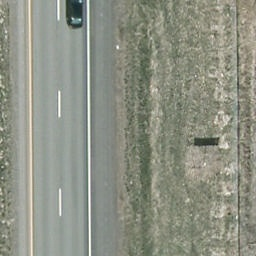car: (66, 0, 83, 31)
